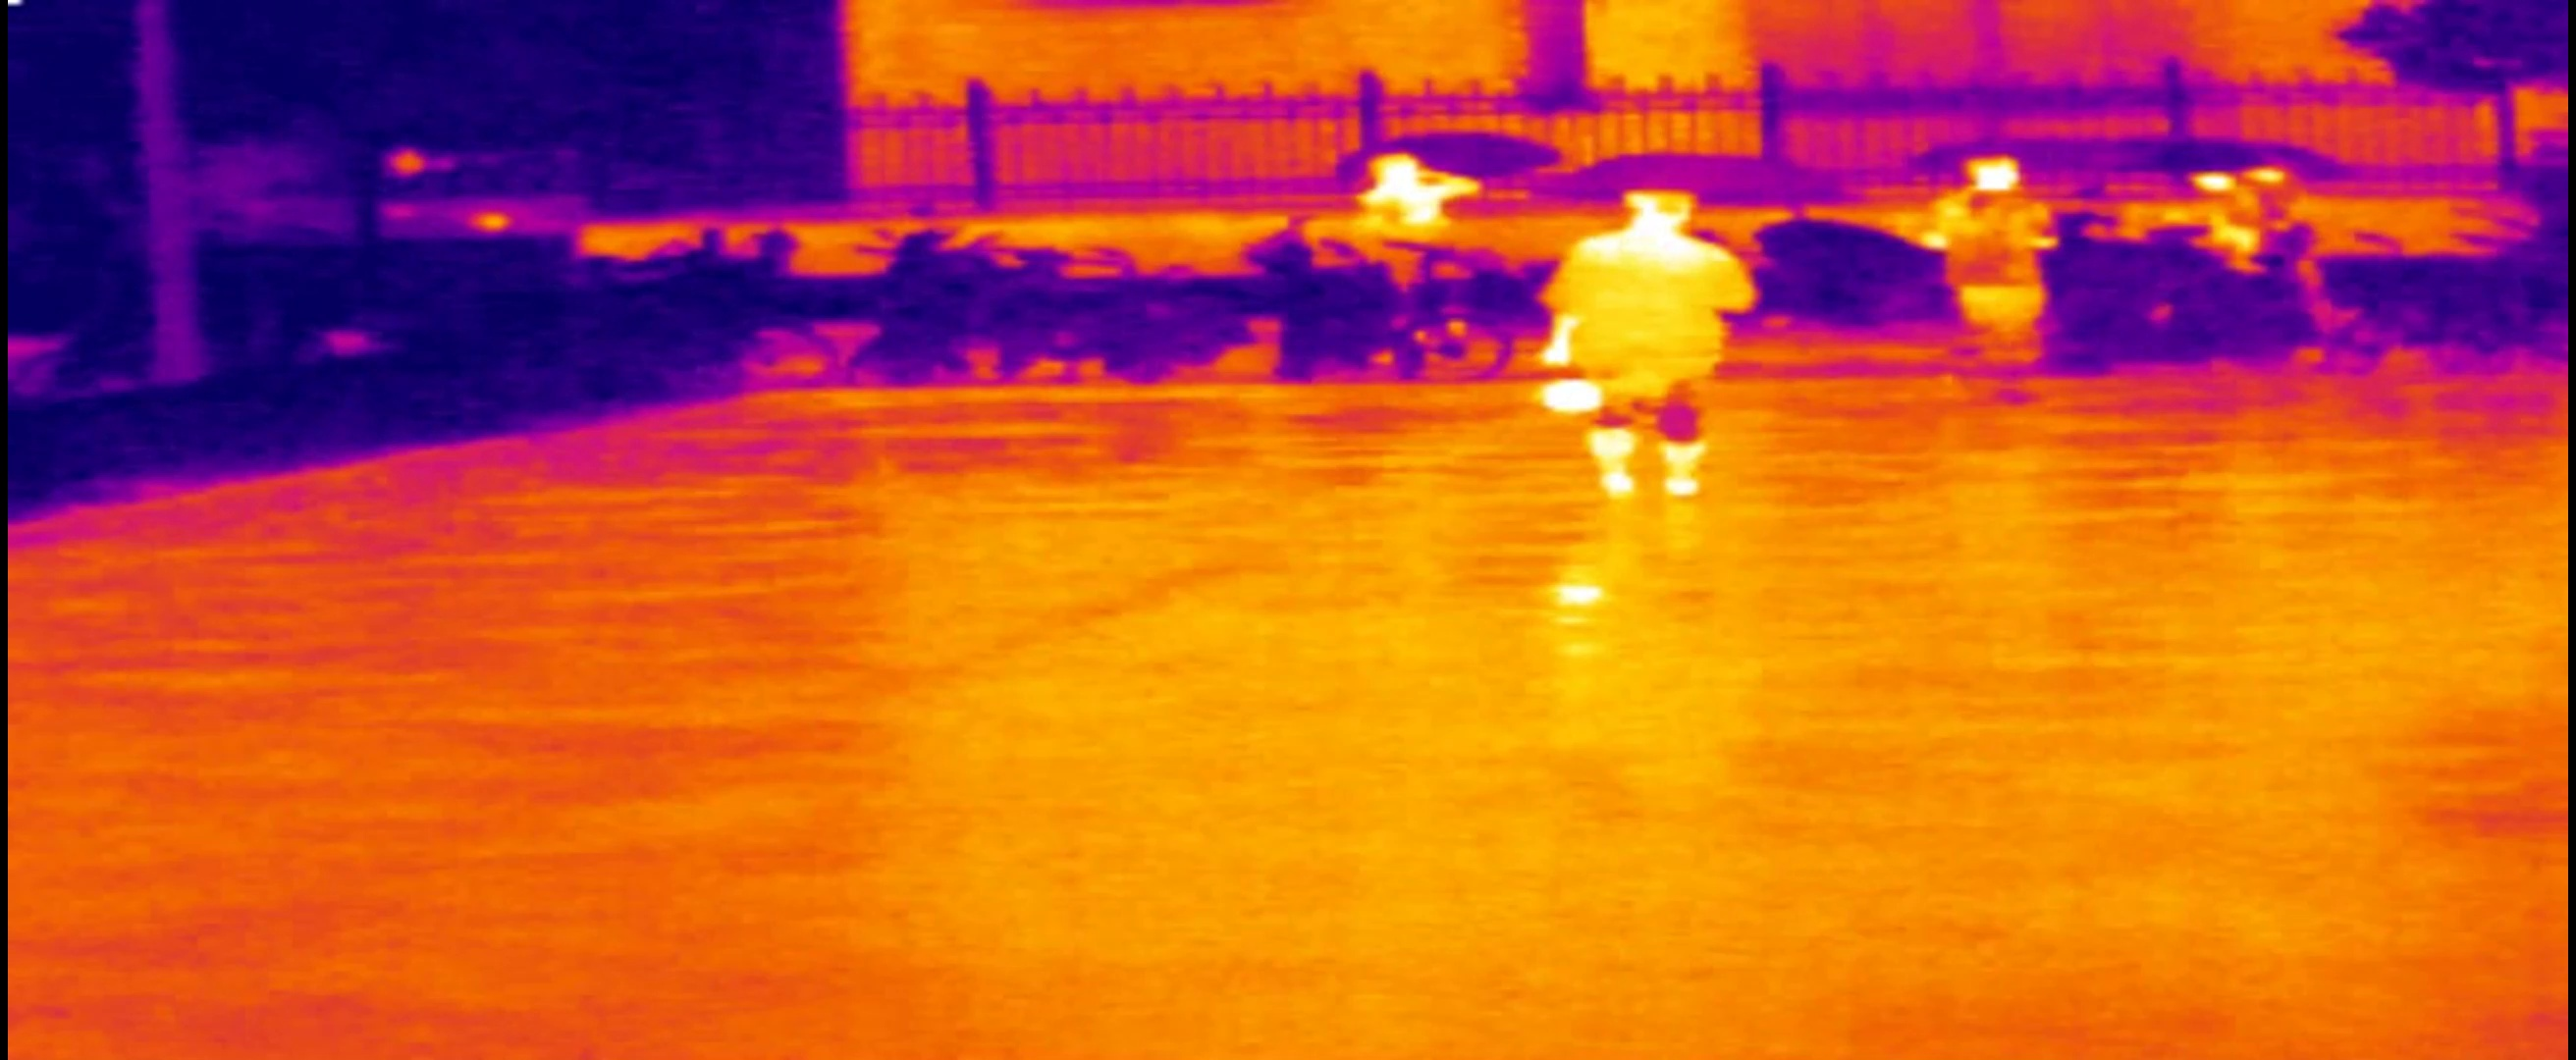person: (1545, 190, 1751, 496), (1938, 153, 2061, 364), (1355, 153, 1486, 244), (2248, 159, 2314, 265), (2188, 178, 2255, 266)
